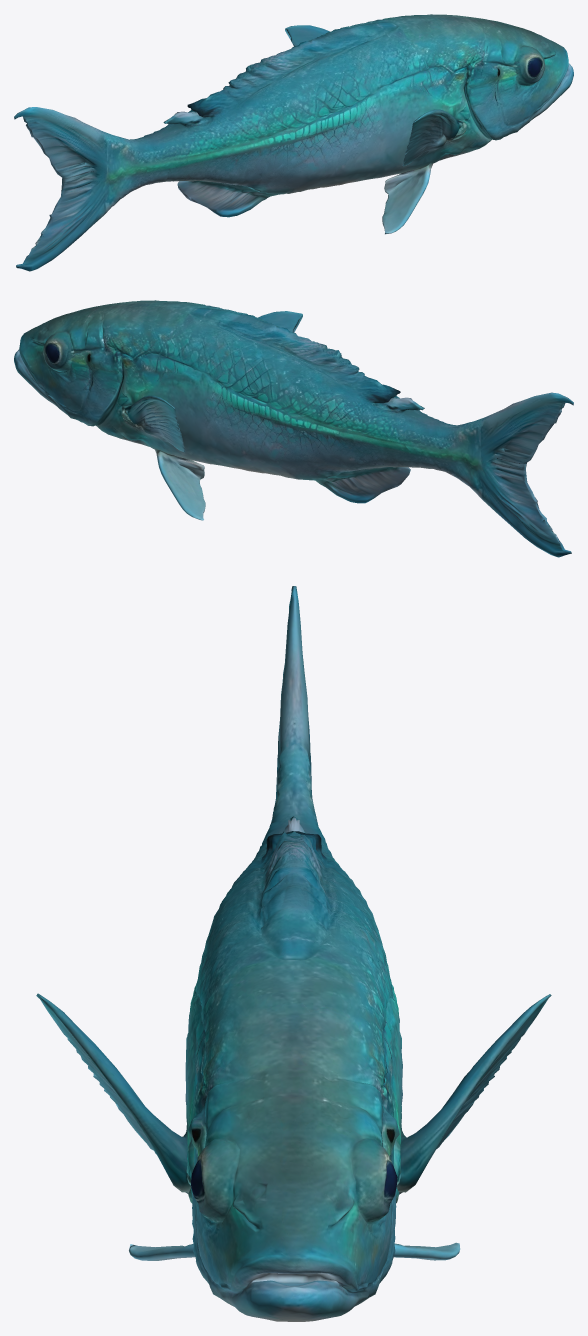
File: blue_green_chromis.glb
3 views of the same model, one above another, from view 1: azimuth 30°, elevation 25°; view 2: azimuth 150°, elevation 25°; view 3: azimuth 270°, elevation 25° (orthographic). The views are drawn at different scales.
Visible parts, largest first — view 1: blue_green_chromisBody; view 2: blue_green_chromisBody; view 3: blue_green_chromisBody.
Part boxes in pixels (x1=…): blue_green_chromisBody: x1=14, y1=14, x2=573, y2=271; blue_green_chromisBody: x1=14, y1=300, x2=573, y2=557; blue_green_chromisBody: x1=36, y1=586, x2=551, y2=1321.
Bounding box in the file's own units: 0.916 × 0.2747 × 0.3667.
1 material, 1 textured.
